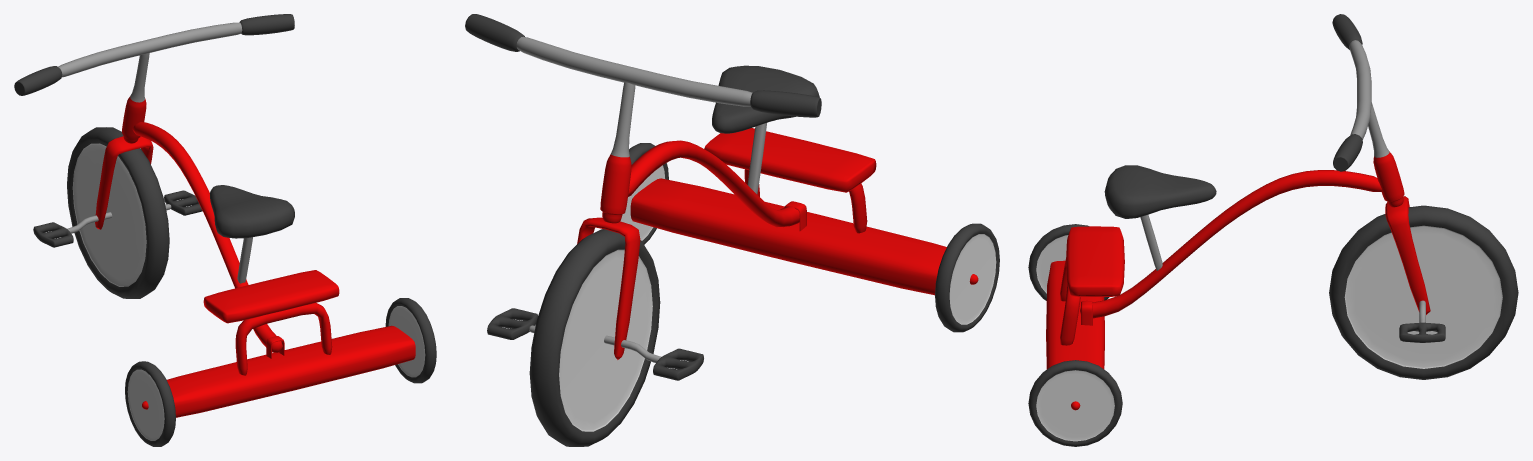
File: Proto_Trike_01.fbx
3 views of the same model, side by side, from view 1: azimuth 30°, elevation 25°; view 2: azimuth 150°, elevation 25°; view 3: azimuth 270°, elevation 25° (orthographic). The views are drawn at different scales.
Visible parts, largest first — view 1: Proto_Trike_01; view 2: Proto_Trike_01; view 3: Proto_Trike_01.
Part boxes in pixels (left/top/right/bottom): Proto_Trike_01: left=14, top=14, right=436, bottom=446; Proto_Trike_01: left=465, top=14, right=999, bottom=446; Proto_Trike_01: left=1028, top=14, right=1518, bottom=446.
Size of the model in its own units: 7.46 by 7.07 by 10.68.
